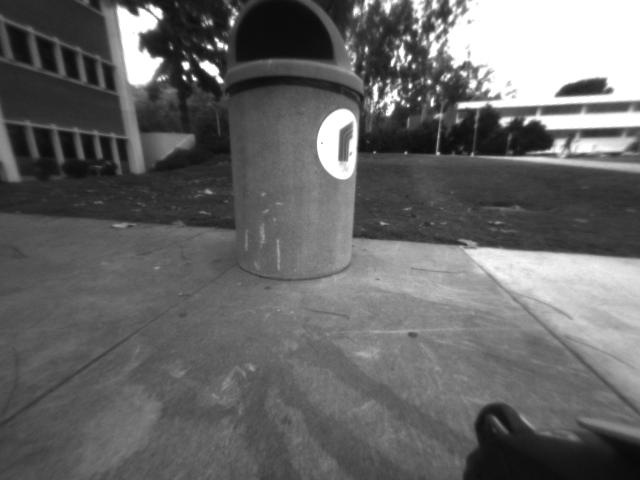trashcan: (222, 1, 368, 291)
